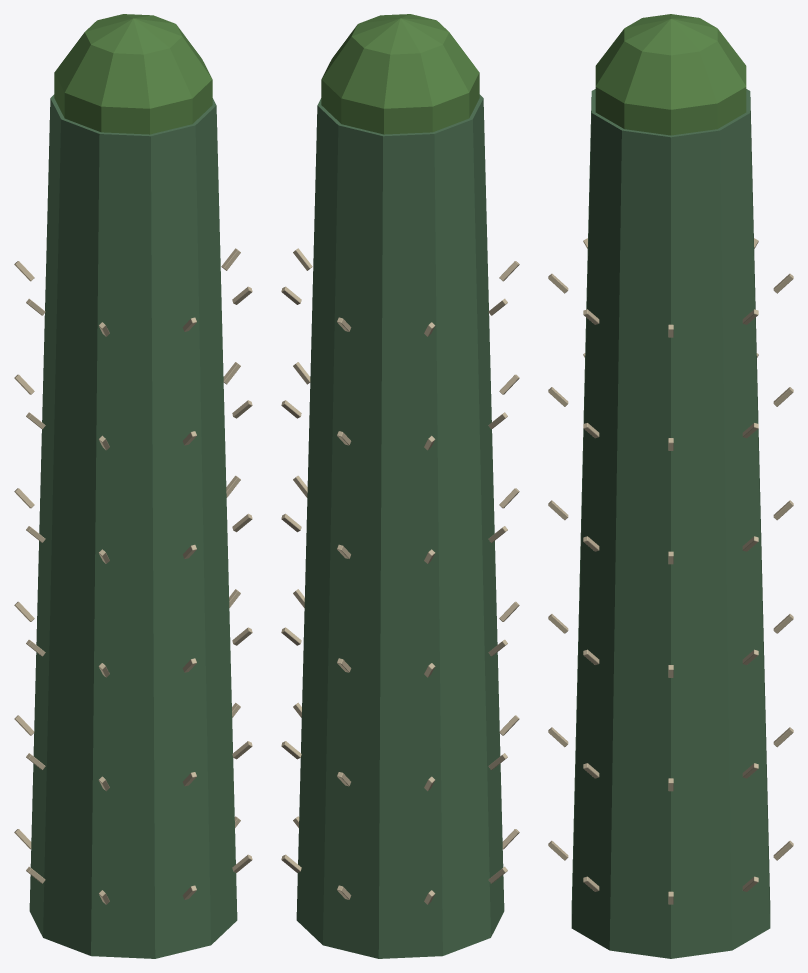
File: vegetation-cactus-column.lod0.glb
The picture shows the model from 3 angles, left to right: view 1: azimuth 30°, elevation 25°; view 2: azimuth 150°, elevation 25°; view 3: azimuth 270°, elevation 25°; orthographic projection.
Visible parts, largest first — view 1: vegetation-cactus-column__body; view 2: vegetation-cactus-column__body; view 3: vegetation-cactus-column__body.
Boxes of the visible parts, x1,y1,x2,y2 form: vegetation-cactus-column__body: (14, 14, 252, 958); vegetation-cactus-column__body: (281, 14, 519, 958); vegetation-cactus-column__body: (548, 14, 793, 958).
Size of the model in its own units: 0.5878 by 2.37 by 0.5878.
